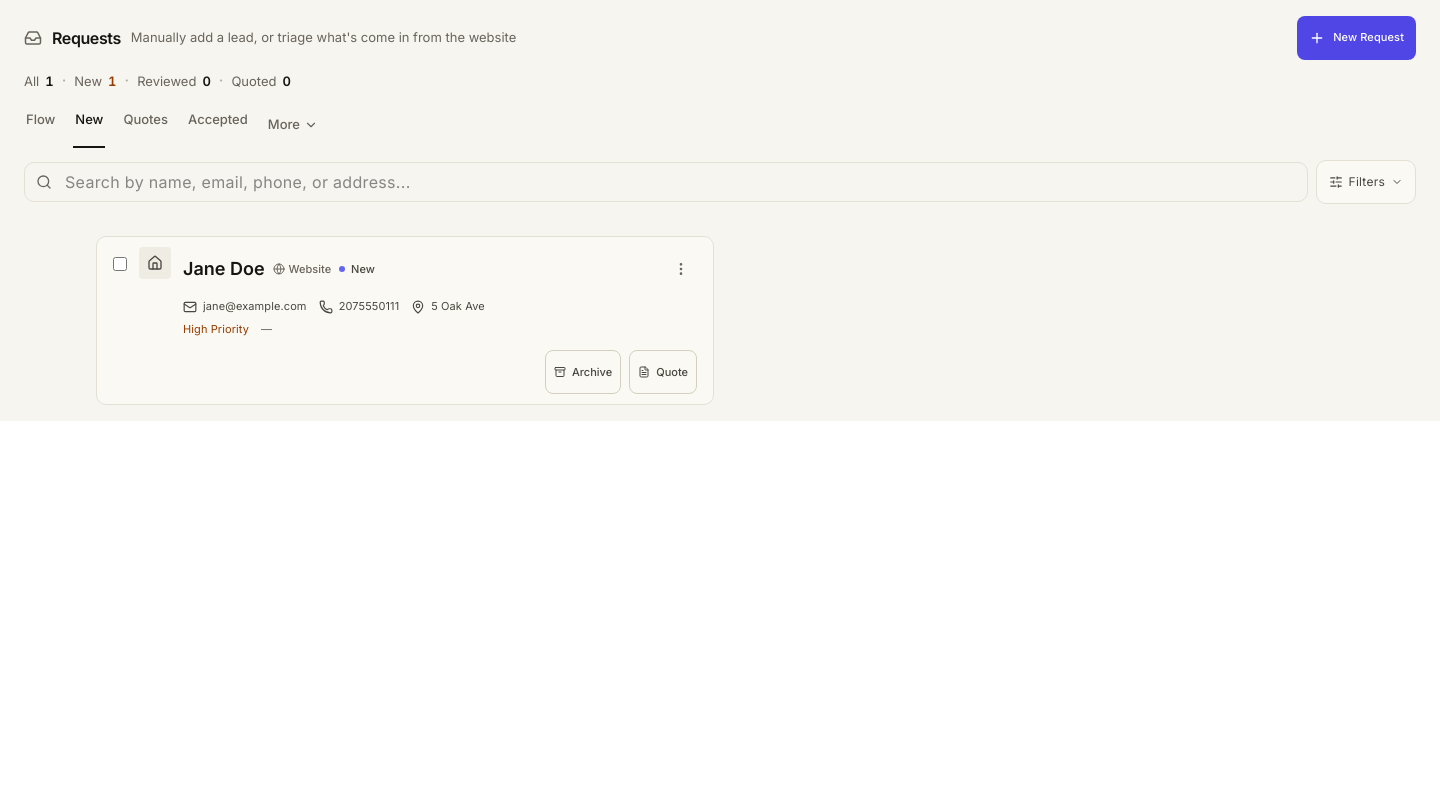
it: Requests — the triage verbs are on the card › opens the record from the name
The image size is (1440, 810).
Step 1. Click the button "Jane Doe" → (224, 269), box top-left (183, 247), bottom-right (265, 291)
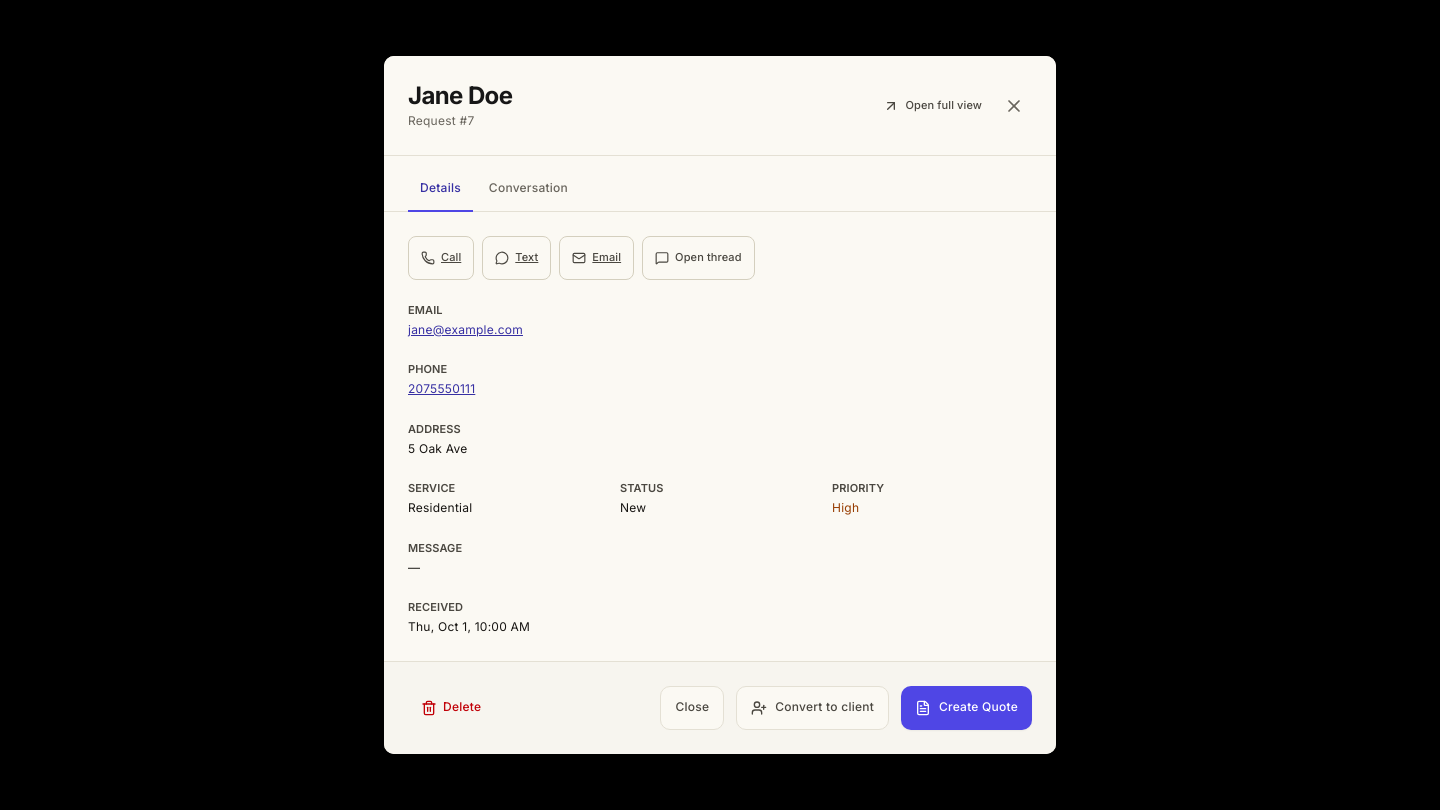
Expected: the text "Request #7" is shown, top-left (408, 113), bottom-right (474, 128)
Expected: the button "Open full view" is shown, top-left (874, 84), bottom-right (992, 128)
